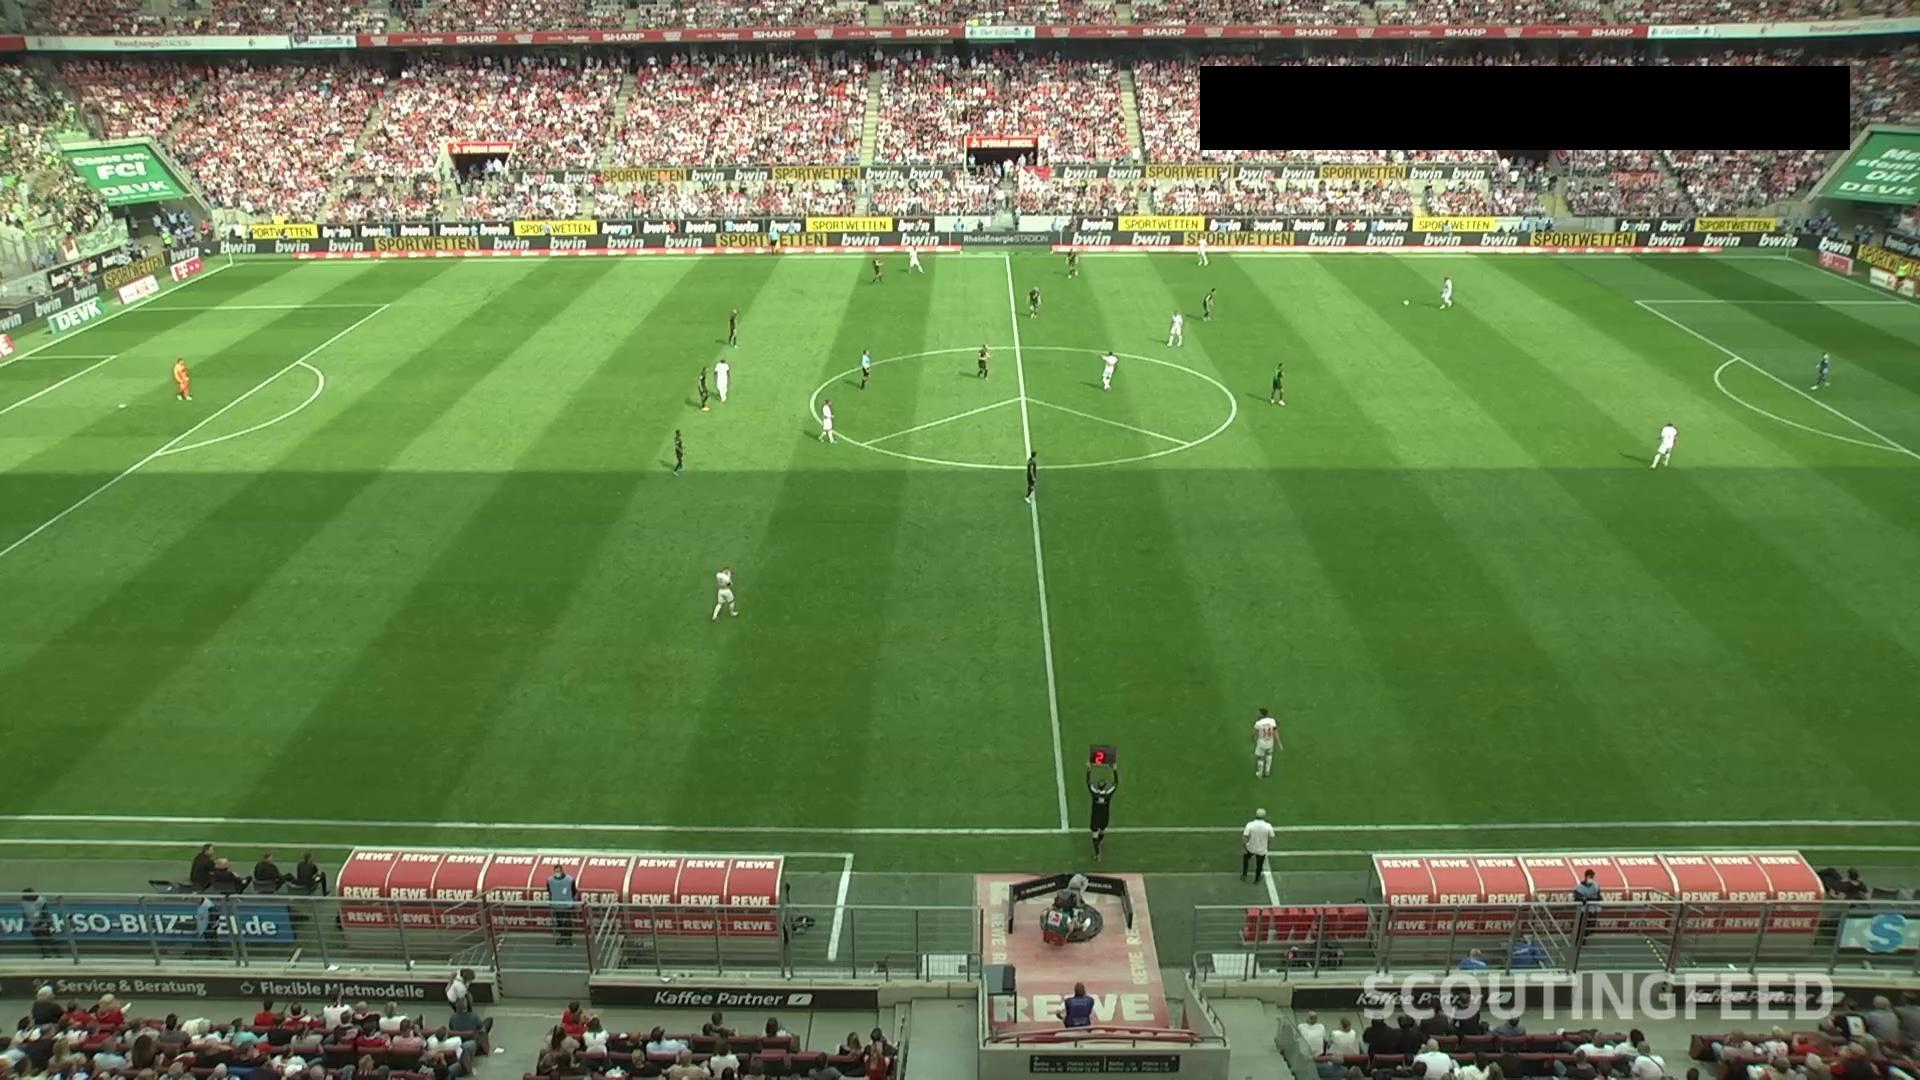Location-of-ball: (1395, 293, 1419, 318)
